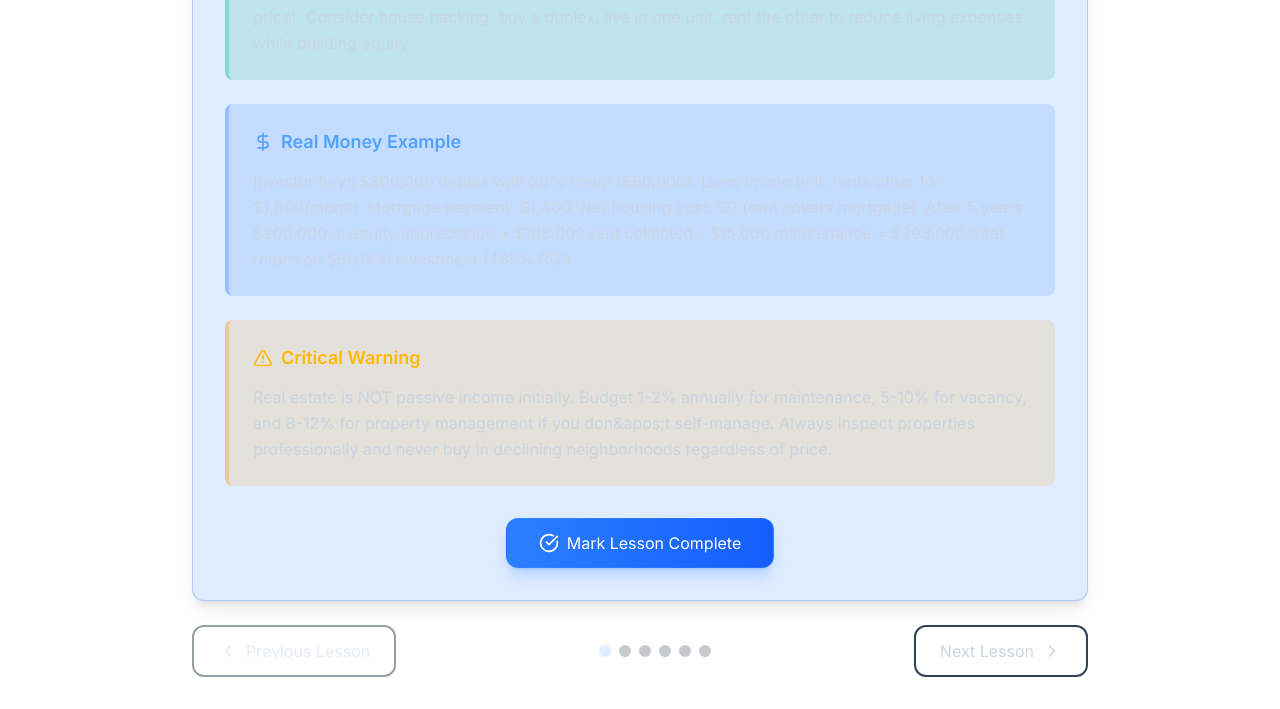
Test: RealEstateAlternativesLessonEnhanced › handles previous lesson navigation
(page scrolled)
# Go to second lesson
Step 1. Click the button "Next Lesson" → (1001, 651), box [914, 625, 1088, 677]
(page scrolled)
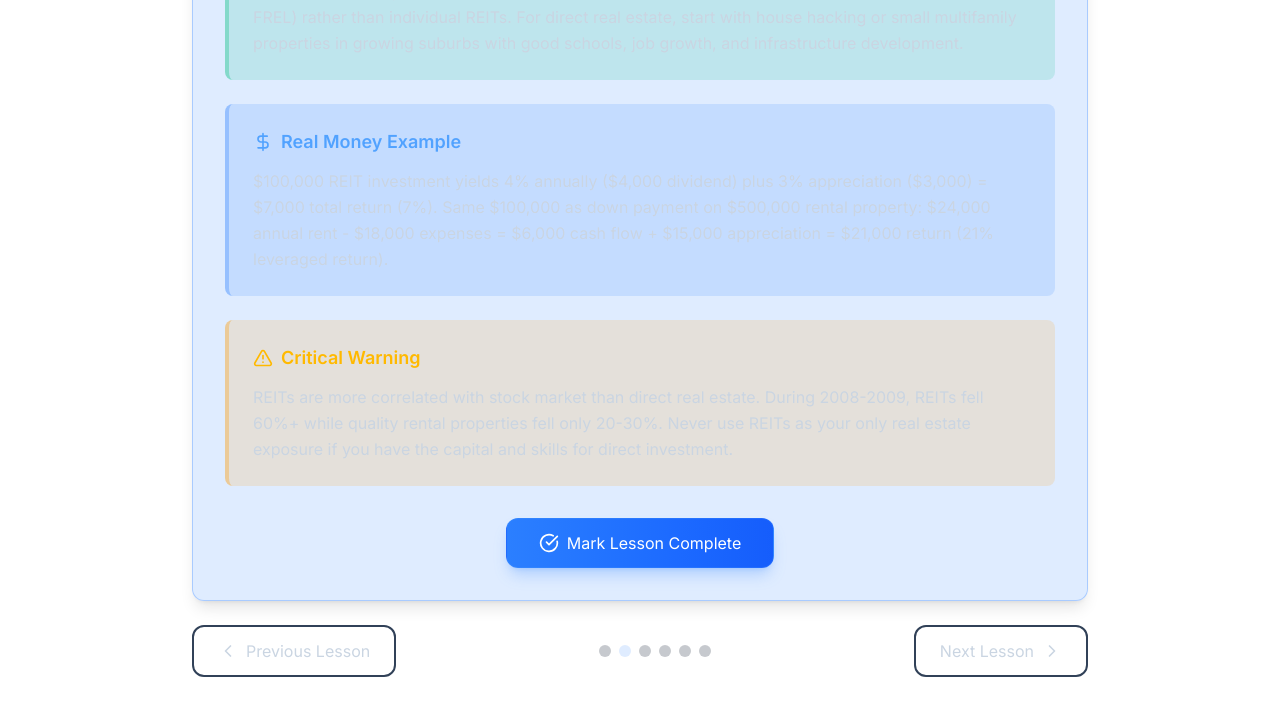
# Go back to first lesson
Step 2. Click the button "Previous Lesson" → (294, 651), box [192, 625, 396, 677]
(page scrolled)
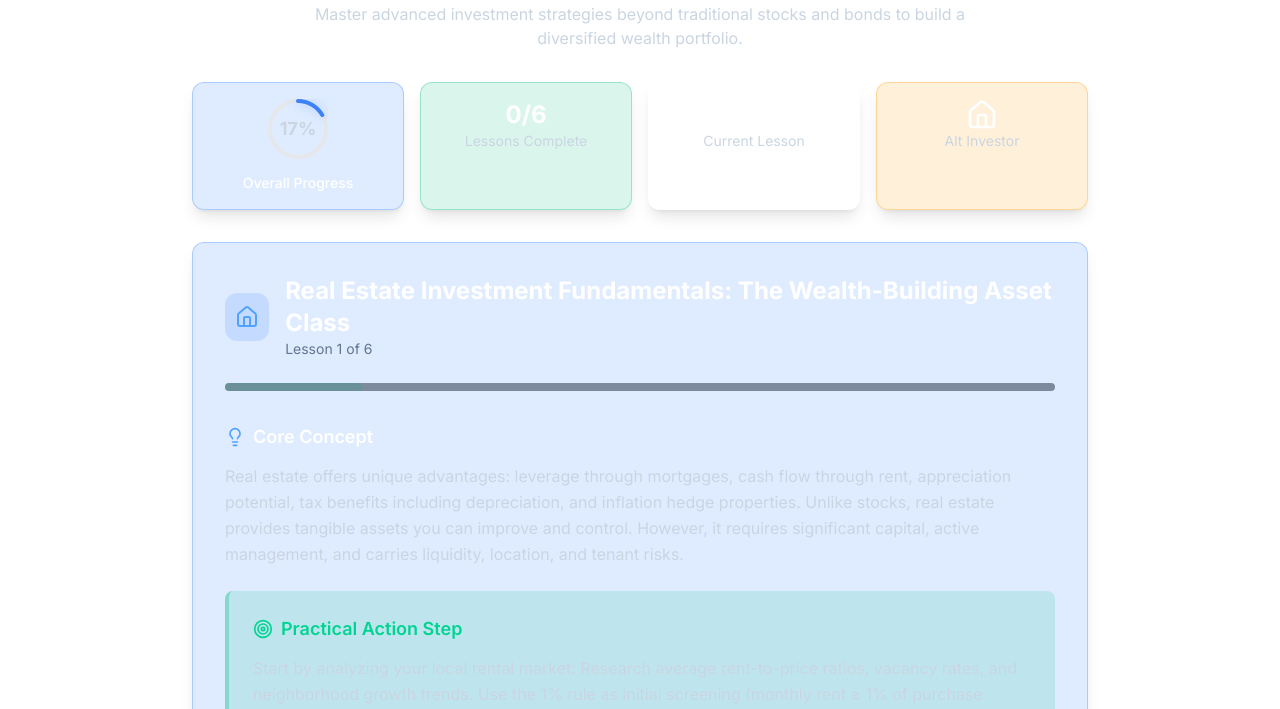
Now the text "Lesson 1 of 6" is shown, box [285, 340, 372, 357]
